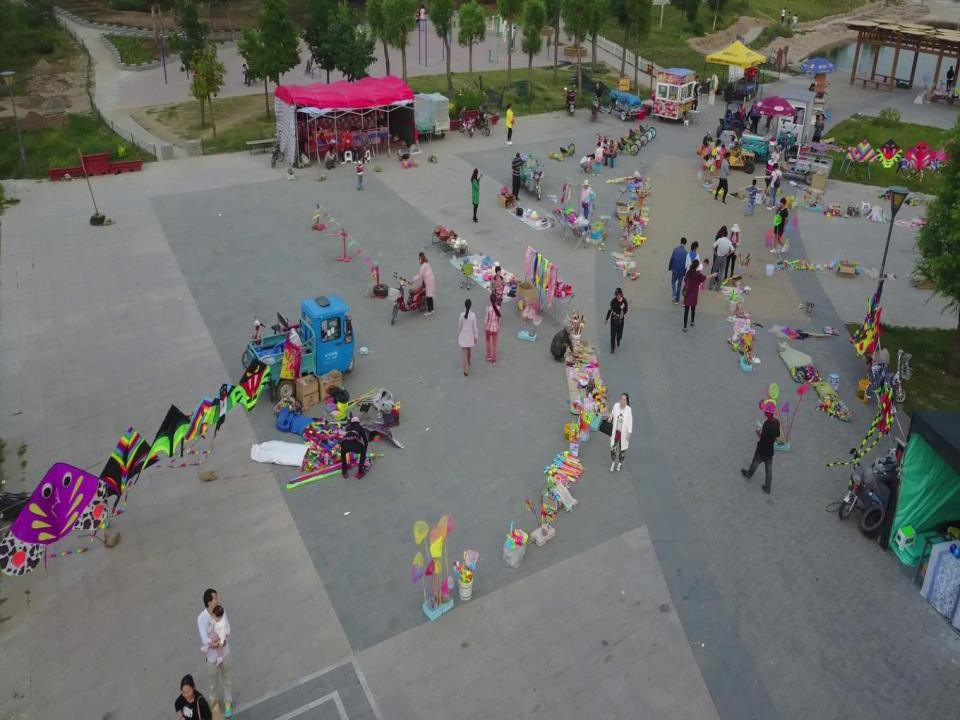truck: (249, 295, 355, 401)
